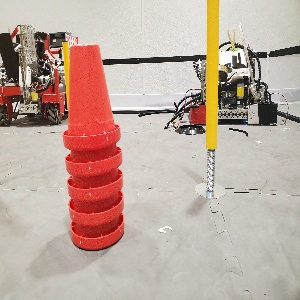Red_5: (59, 42, 128, 253)
